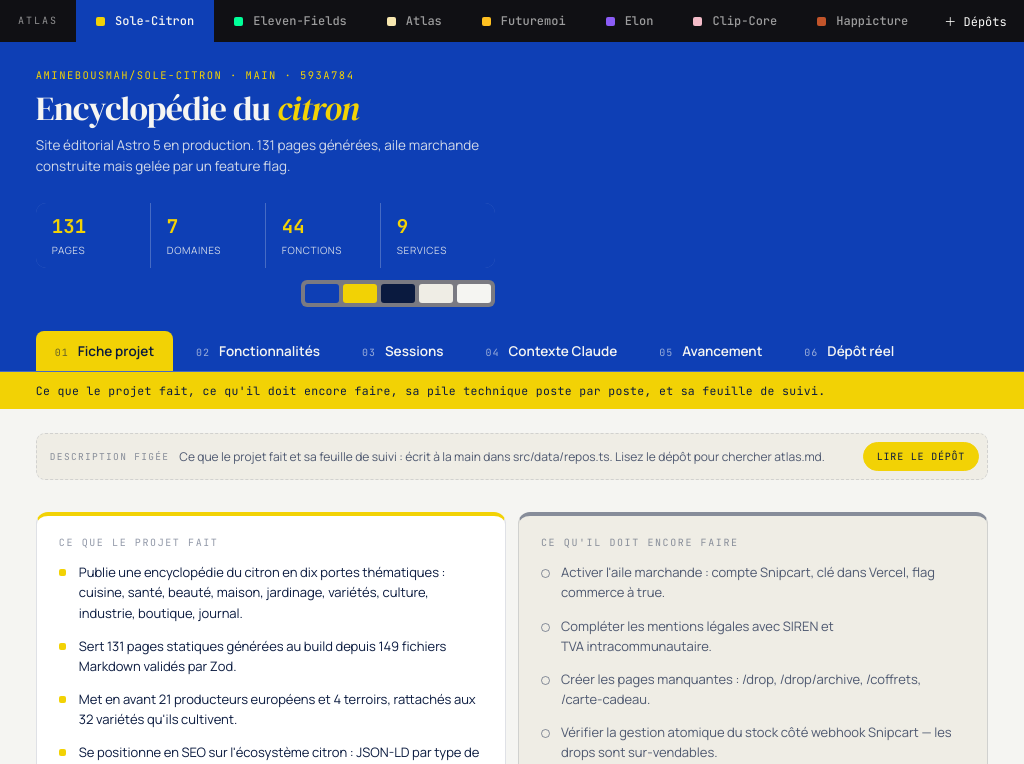
it: choix des dépôts › demande un jeton avant de lister le compte
Click the button "＋ Dépôts" at (976, 21), box x1=928 y1=0 x2=1023 y2=42
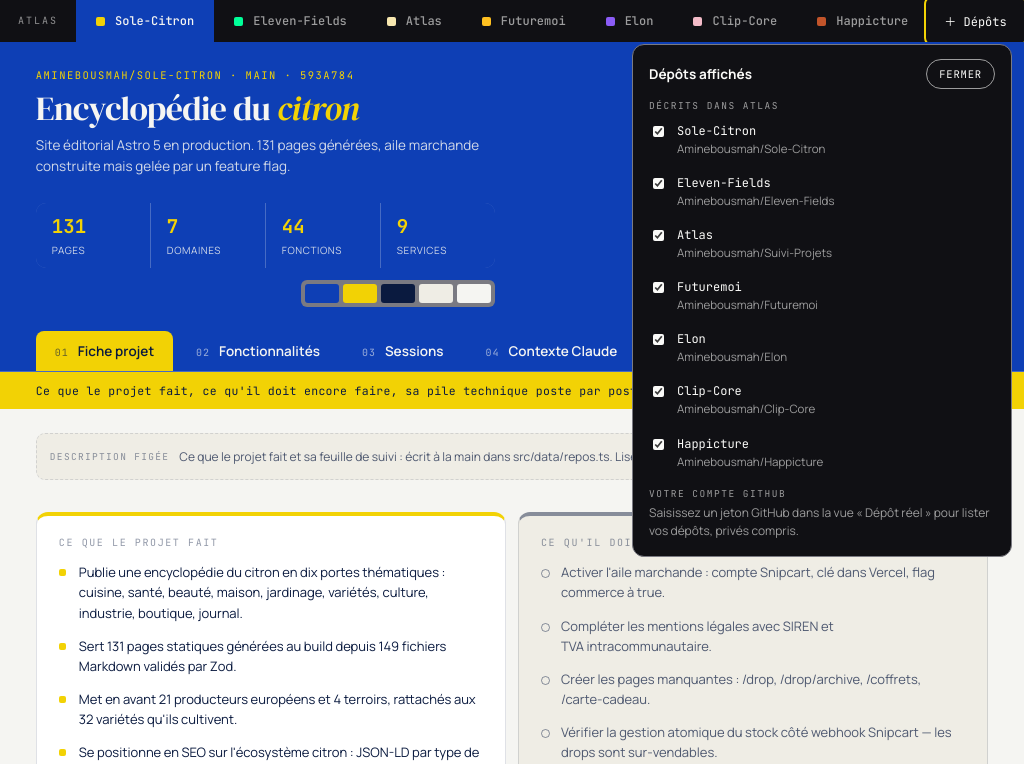
Now the text "Saisissez un jeton GitHub" is shown, box x1=649 y1=504 x2=990 y2=539
